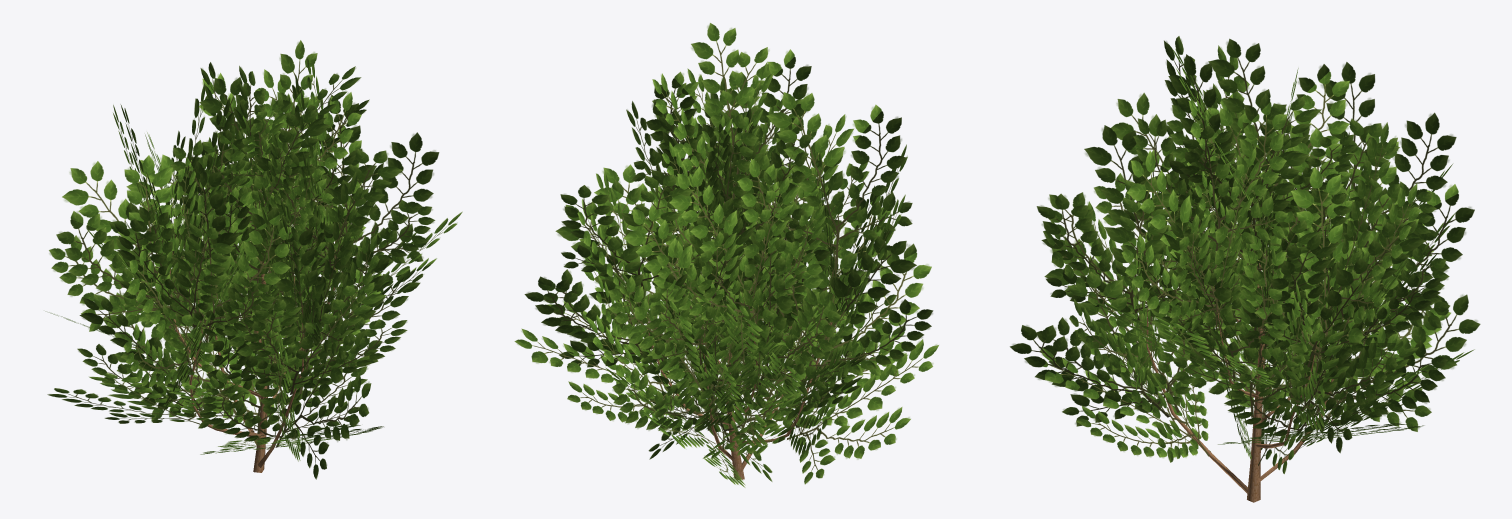
File: bush_02.glb
3 renders of one model, left to right at view 1: azimuth 30°, elevation 25°; view 2: azimuth 150°, elevation 25°; view 3: azimuth 270°, elevation 25°, orthographic. The views are drawn at different scales.
Visible parts, largest first — view 1: bush_02; view 2: bush_02; view 3: bush_02.
Part boxes in pixels (<box>): bush_02: <box>45,40,462,479</box>; bush_02: <box>514,23,938,487</box>; bush_02: <box>1010,36,1480,502</box>.
Bounding box in the file's own units: 3.36 × 3.3 × 3.28.
Materials: 1 (1 with a texture image).
